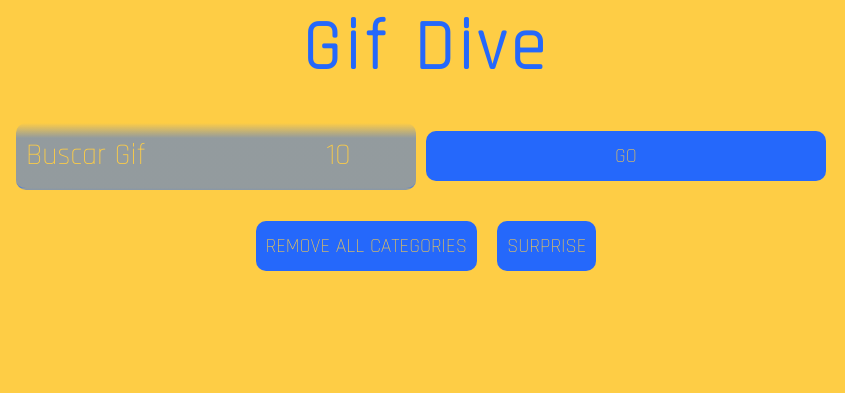
Test: GifDivePage › behavior › should add a gif grid when a category is submitted
This screenshot has width=845, height=393.
Step 1. Type "cats" into the field with placeholder "Buscar Gif" → (166, 156), box [16,122,316,190]
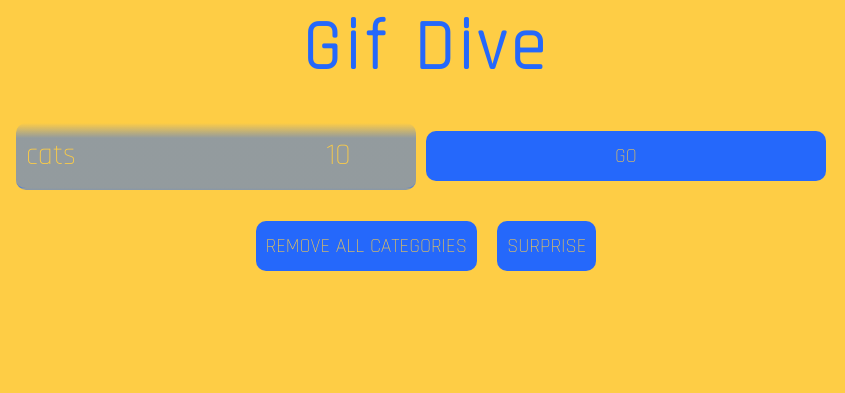
Step 2. Click the button with aria-label "Search GIFs by category" → (626, 156), box [426,131,826,181]
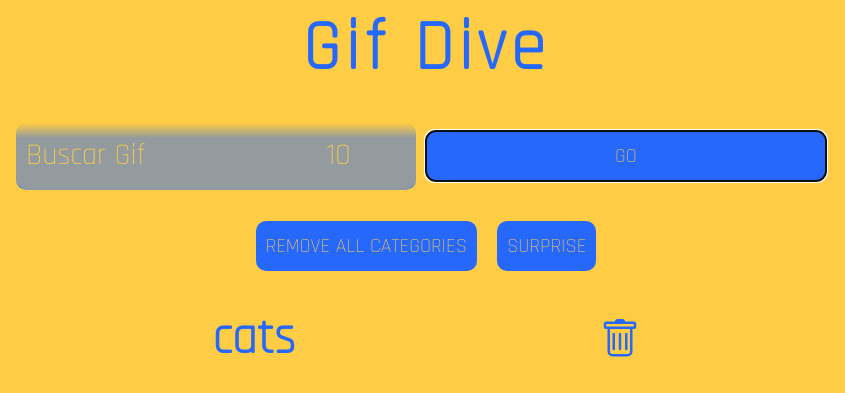
Expected: the heading "cats" is shown, [212,301,295,376]
